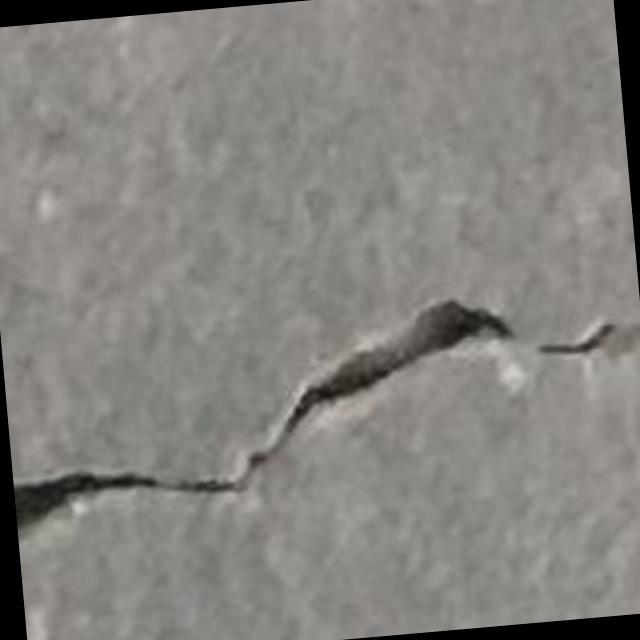crack: (14, 300, 515, 527)
